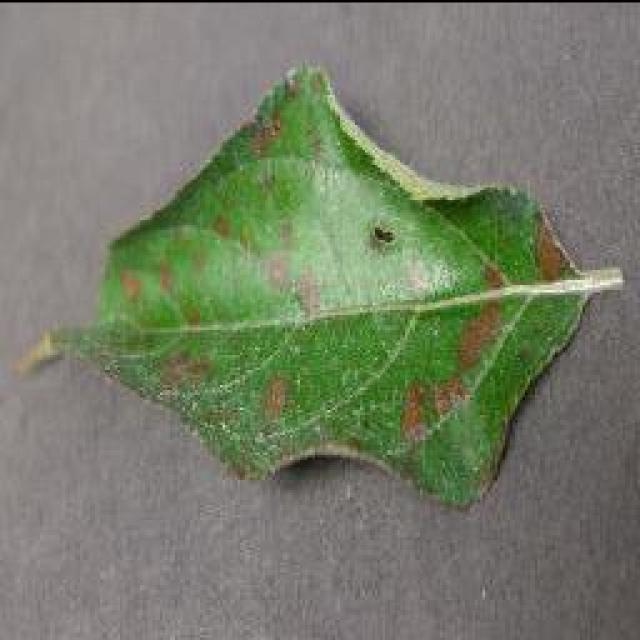apple healthy: (12, 58, 622, 510)
